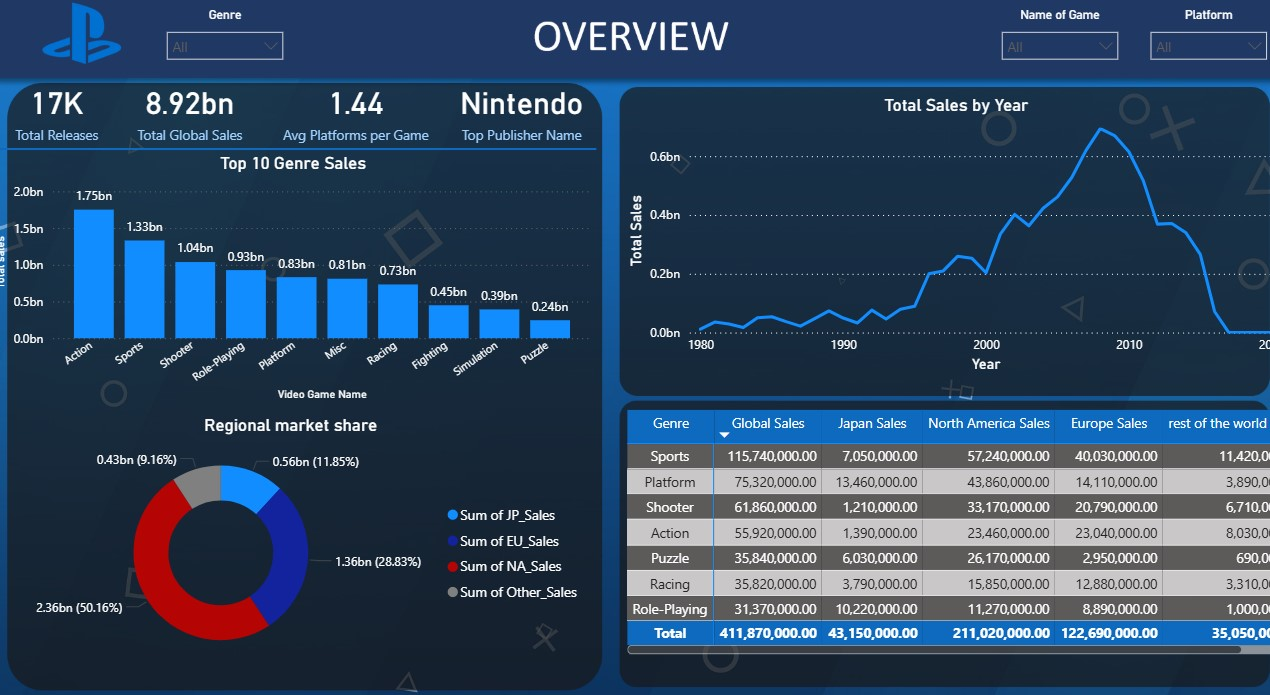

This screenshot's page, from the dashboard's own definition file:
{"tool":"powerbi","page":{"name":"overview","canvas":[1280,720],"ordinal":0},"visuals":[{"type":"shape","box":[0,141.2,596,39.8],"z":0},{"type":"card","title":"Number of Games","fields":{"Values":["VideoGames2.Total Games Released"]},"box":[0,84.5,131.5,77.2],"z":1000},{"type":"card","title":"Number of Games","fields":{"Values":["VideoGames2.Total Global Sales"]},"box":[131.5,84.5,130.3,77.2],"z":2000},{"type":"card","title":"Number of Games","fields":{"Values":["VideoGames2.Top Publisher Name"]},"box":[454.8,84.5,136.3,77.2],"z":3000},{"type":"card","title":"Number of Games","fields":{"Values":["VideoGames2.Avg Platforms per Game"]},"box":[278.7,84.5,161.7,77.2],"z":4000},{"type":"areaChart","title":"Total Sales by Year","fields":{"Category":["VideoGames2.Year"],"Y":["Sum(VideoGames2.Global_Sales)"]},"box":[621.3,108.6,656.3,277.5],"z":5000},{"type":"donutChart","title":"Regional market share","fields":{"Y":["Sum(VideoGames2.JP_Sales)","Sum(VideoGames2.EU_Sales)","Sum(VideoGames2.NA_Sales)","Sum(VideoGames2.Other_Sales)"]},"box":[0,422.3,591.2,252.1],"z":6000},{"type":"clusteredColumnChart","title":"Top 10 Genre Sales","fields":{"Y":["Sum(VideoGames2.Global_Sales)"],"Category":["VideoGames2.Genre"]},"box":[0,164.1,596,248.5],"z":7000},{"type":"pivotTable","title":"Top 10 video Games  Sales","fields":{"Rows":["VideoGames2.Genre"],"Values":["Sum(VideoGames2.Global_Sales)","Sum(VideoGames2.JP_Sales)","Sum(VideoGames2.NA_Sales)","Sum(VideoGames2.EU_Sales)","Sum(VideoGames2.Other_Sales)"]},"box":[621.3,412.6,656.3,249.7],"z":8000},{"type":"slicer","title":"Name of Game","fields":{"Values":["VideoGames2.Name"]},"box":[984.5,21.7,135.1,66.4],"z":8001},{"type":"slicer","title":"Platform","fields":{"Values":["VideoGames2.Platform"]},"box":[1130.4,21.7,135.1,66.4],"z":8002},{"type":"slicer","title":"Genre","fields":{"Values":["VideoGames2.Genre"]},"box":[163.4,22.1,135.2,66.3],"z":8003}]}

Visuals, with their boxes in screenshot pixels (x1, y1, x2, y2), scaled from the page's 1280x720 canvas onto the 1270x695 screenshot:
shape: <box>0,136,591,175</box>
"Number of Games" card: <box>0,82,130,156</box>
"Number of Games" card: <box>130,82,260,156</box>
"Number of Games" card: <box>451,82,586,156</box>
"Number of Games" card: <box>277,82,437,156</box>
"Total Sales by Year" areaChart: <box>616,105,1268,373</box>
"Regional market share" donutChart: <box>0,408,587,651</box>
"Top 10 Genre Sales" clusteredColumnChart: <box>0,158,591,398</box>
"Top 10 video Games  Sales" pivotTable: <box>616,398,1268,639</box>
"Name of Game" slicer: <box>977,21,1111,85</box>
"Platform" slicer: <box>1122,21,1256,85</box>
"Genre" slicer: <box>162,21,296,85</box>
